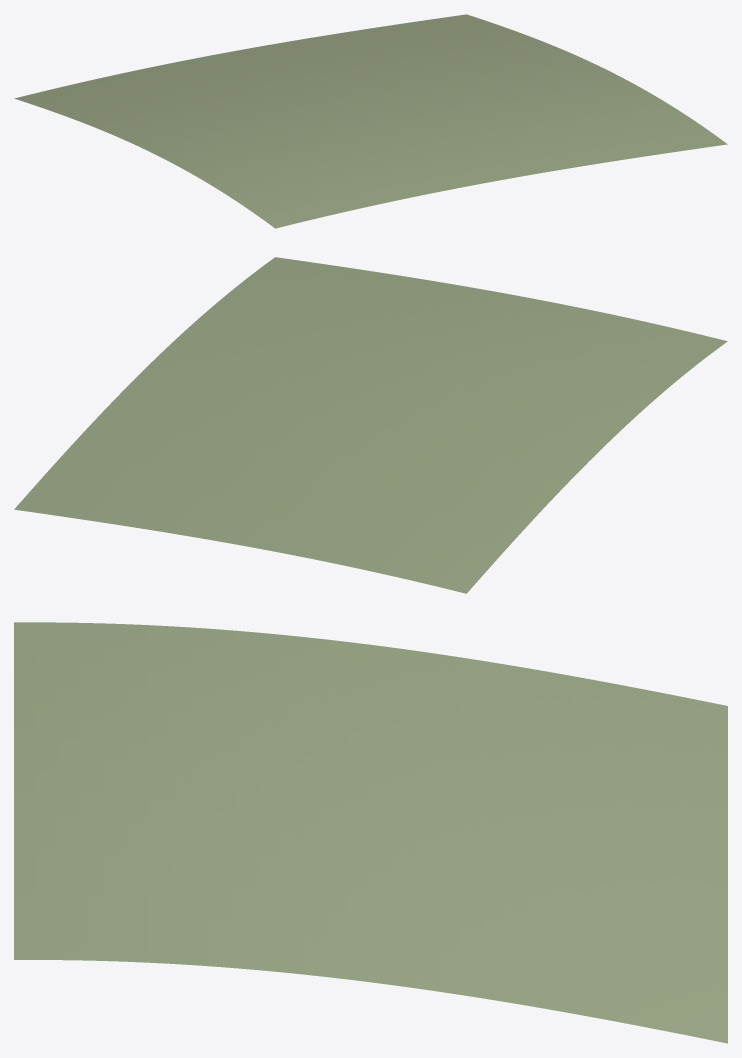
File: valley-11-0.glb
The picture shows the model from 3 angles, top to bottom: view 1: azimuth 30°, elevation 25°; view 2: azimuth 150°, elevation 25°; view 3: azimuth 270°, elevation 25°; orthographic projection. The views are drawn at different scales.
Visible parts, largest first — view 1: valley-11-0; view 2: valley-11-0; view 3: valley-11-0.
Part boxes in pixels (x1=…): valley-11-0: x1=14, y1=14, x2=727, y2=228; valley-11-0: x1=14, y1=257, x2=727, y2=593; valley-11-0: x1=14, y1=622, x2=727, y2=1043.
Size of the model in its own units: 256 by 47.31 by 256.
